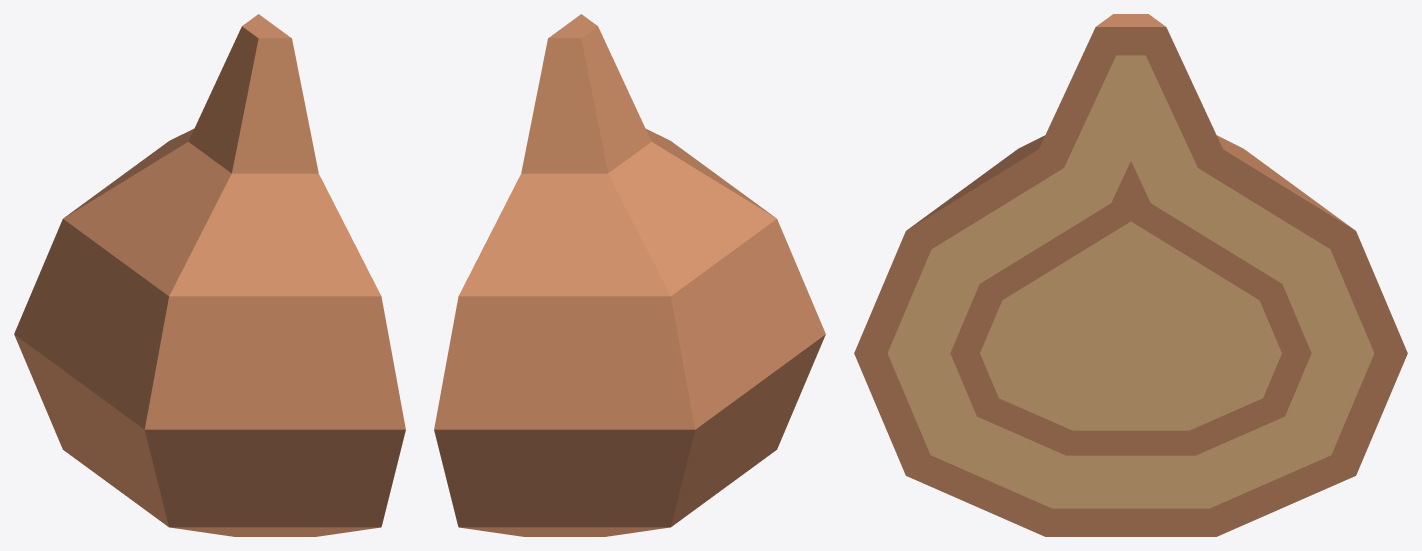
File: onionHalf.fbx
3 renders of one model, left to right at view 1: azimuth 30°, elevation 25°; view 2: azimuth 150°, elevation 25°; view 3: azimuth 270°, elevation 25°, orthographic. The views are drawn at different scales.
Parts seen in each view (by area): view 1: onionHalf; view 2: onionHalf; view 3: onionHalf.
Boxes of the visible parts, x1,y1,x2,y2 form: onionHalf: (14, 14, 405, 536); onionHalf: (434, 14, 825, 536); onionHalf: (854, 14, 1407, 536).
Bounding box in the file's own units: 1.07 × 2.5 × 2.46.
